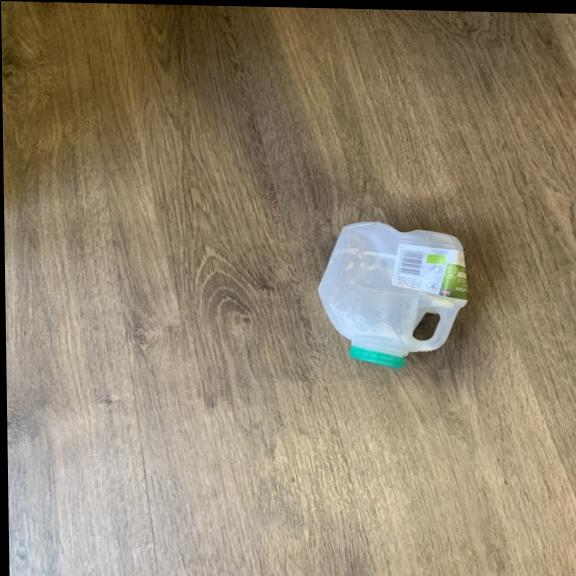Plastik: (310, 215, 474, 368)
